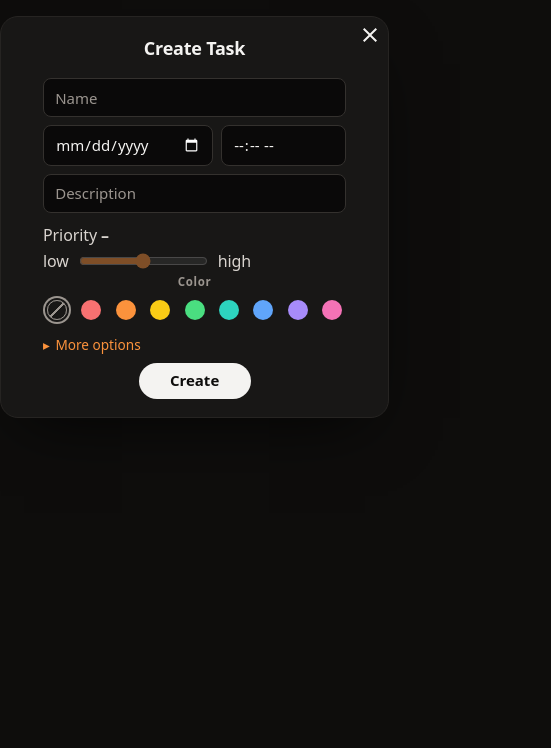
Scenario: create task form › a reminder needs a time
Click the button "▸ More options": coordinates (92, 345) 43,332 -> 141,359
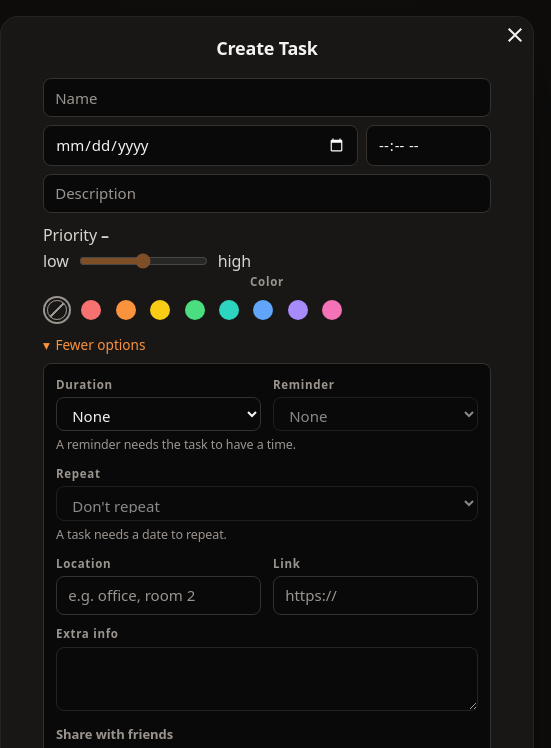
Expected: the time field named "Time" is disabled, 366,125 -> 491,166
Expected: the dropdown labelled "Reminder" is disabled, 273,397 -> 478,431
In the date field named "Due Date": coordinates (200, 146) 43,125 -> 358,166, type "2026-10-22"
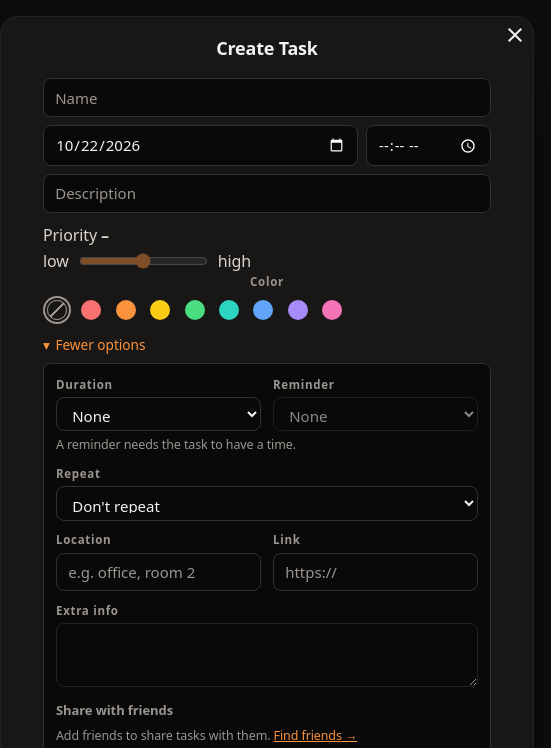
In the time field named "Time": coordinates (428, 146) 366,125 -> 491,166, type "09:00"
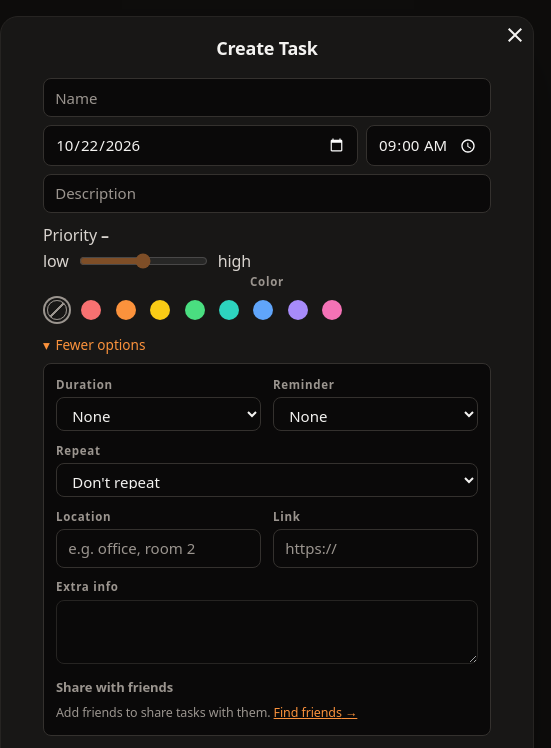
Expected: the dropdown labelled "Reminder" is enabled, 273,397 -> 478,431
